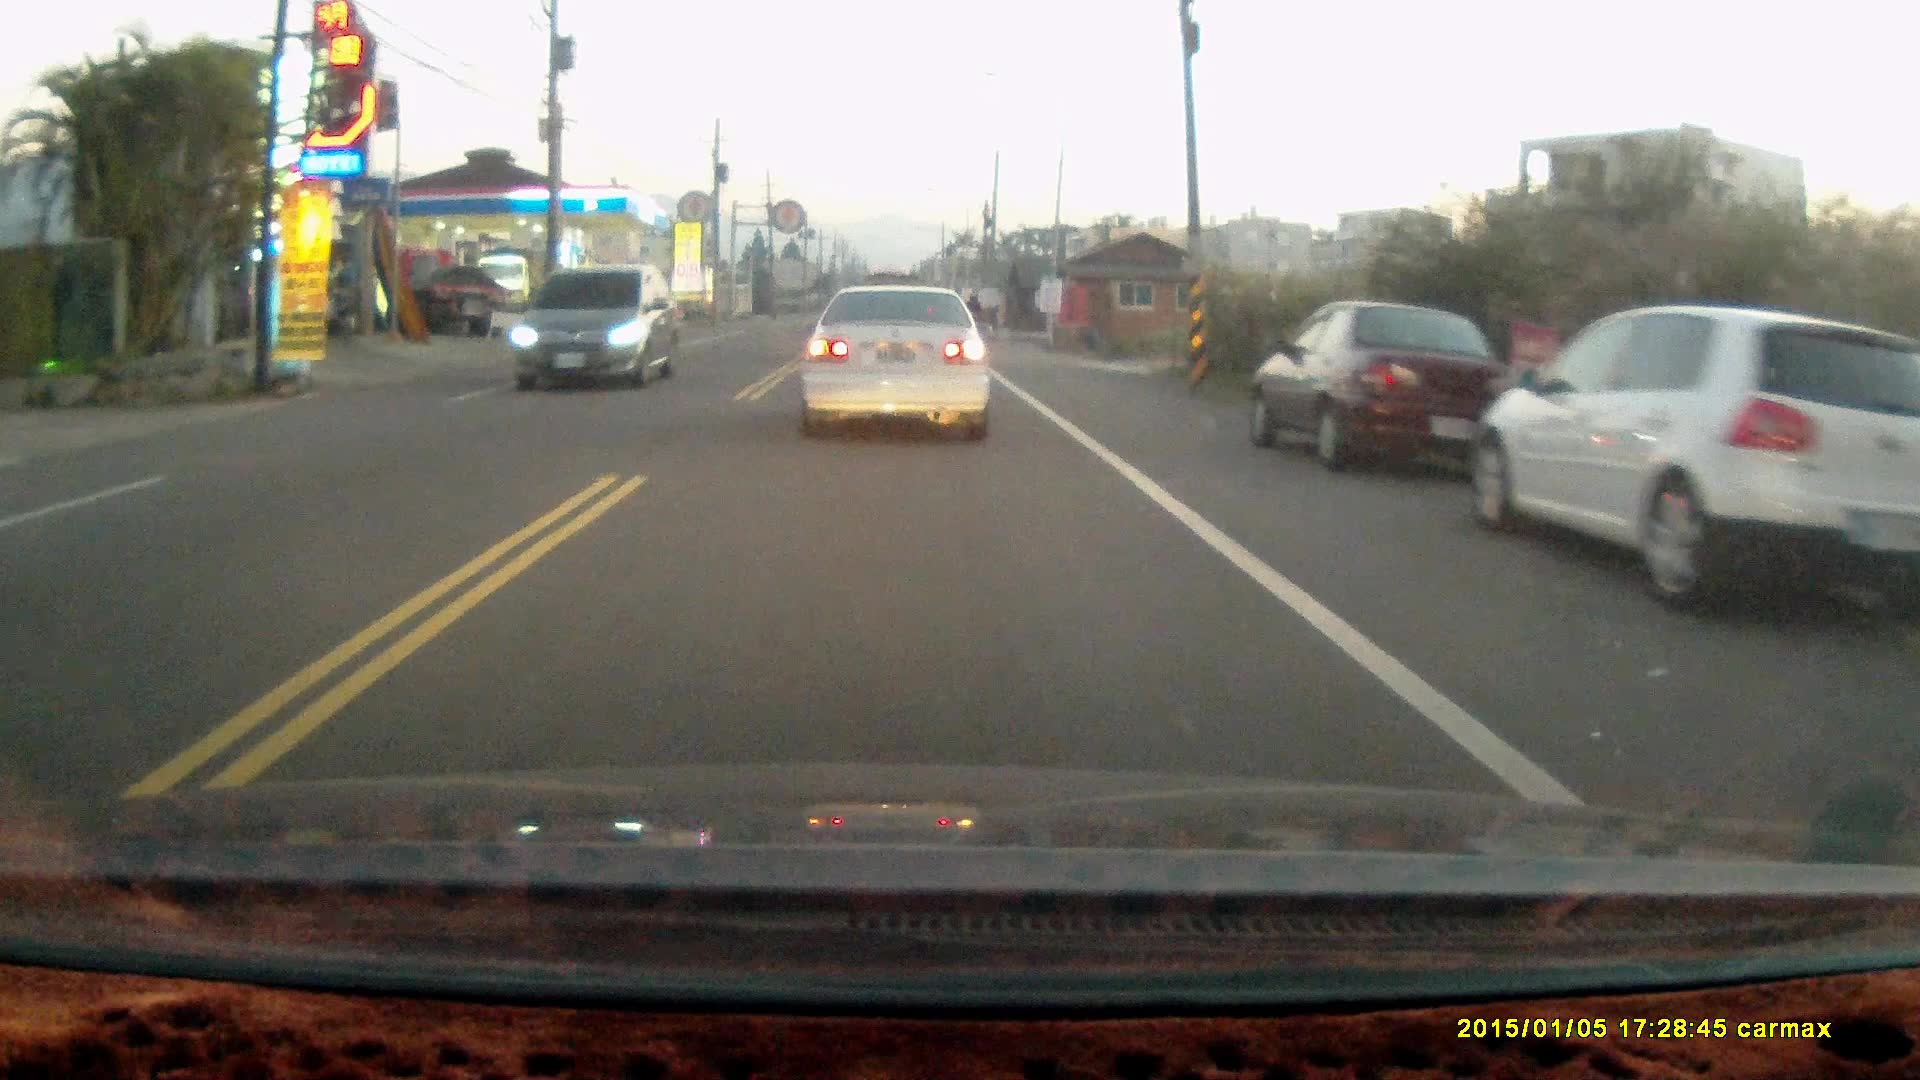vehicle: (1468, 303, 1909, 611), (1250, 305, 1528, 469), (796, 280, 996, 444), (516, 264, 682, 393)
